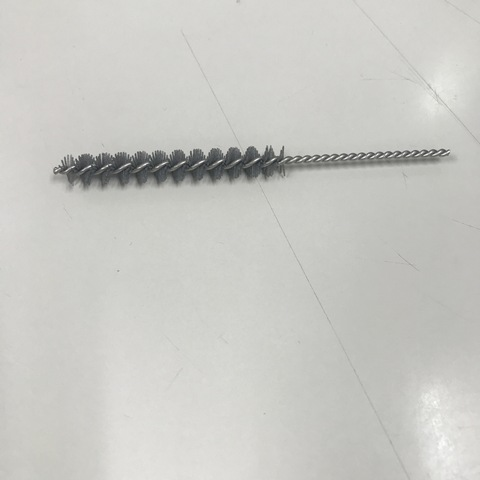Twist Brush-A: (52, 148, 461, 187)
